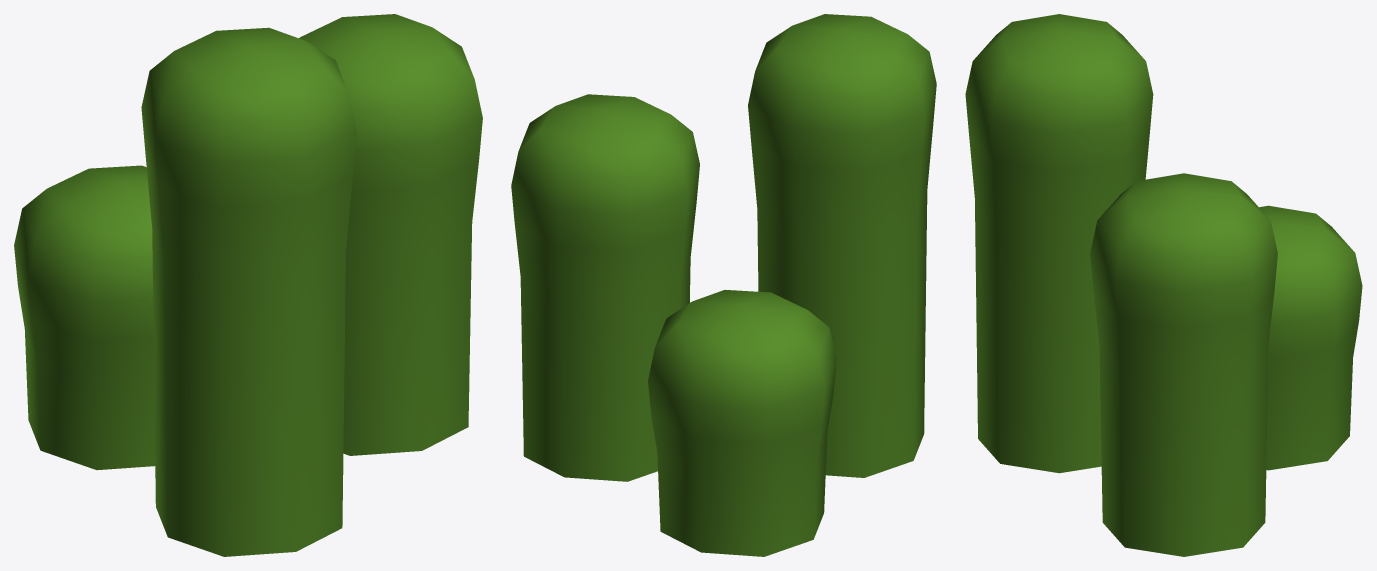
Rendered from Grass_13.fbx.
3 views of the same model, side by side, from view 1: azimuth 30°, elevation 25°; view 2: azimuth 150°, elevation 25°; view 3: azimuth 270°, elevation 25° (orthographic). The views are drawn at different scales.
Parts seen in each view (by area): view 1: Grass_13; view 2: Grass_13; view 3: Grass_13.
Boxes of the visible parts, x1=… form: Grass_13: x1=14, y1=14, x2=482, y2=556; Grass_13: x1=511, y1=14, x2=936, y2=556; Grass_13: x1=965, y1=14, x2=1362, y2=556.
Bounding box in the file's own units: 47.21 × 54.23 × 47.74.
